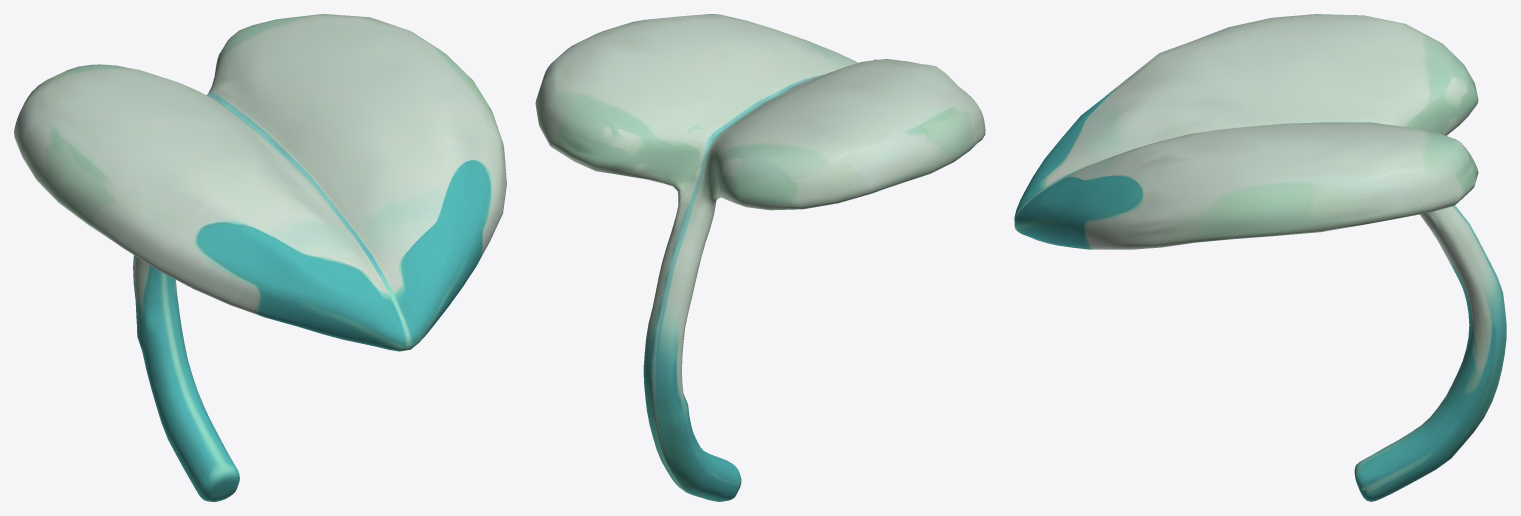
File: heart_albo_2672_3.glb
3 views of the same model, side by side, from view 1: azimuth 30°, elevation 25°; view 2: azimuth 150°, elevation 25°; view 3: azimuth 270°, elevation 25° (orthographic). The views are drawn at different scales.
Bounding box in the file's own units: 1.82 × 1.85 × 2.
1 material, 1 textured.
